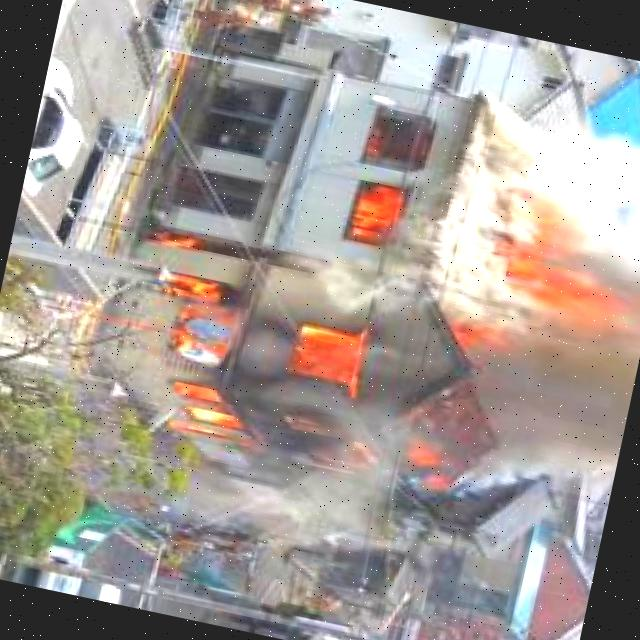fire: (124, 263, 504, 509), (493, 189, 635, 335), (340, 92, 426, 248)
